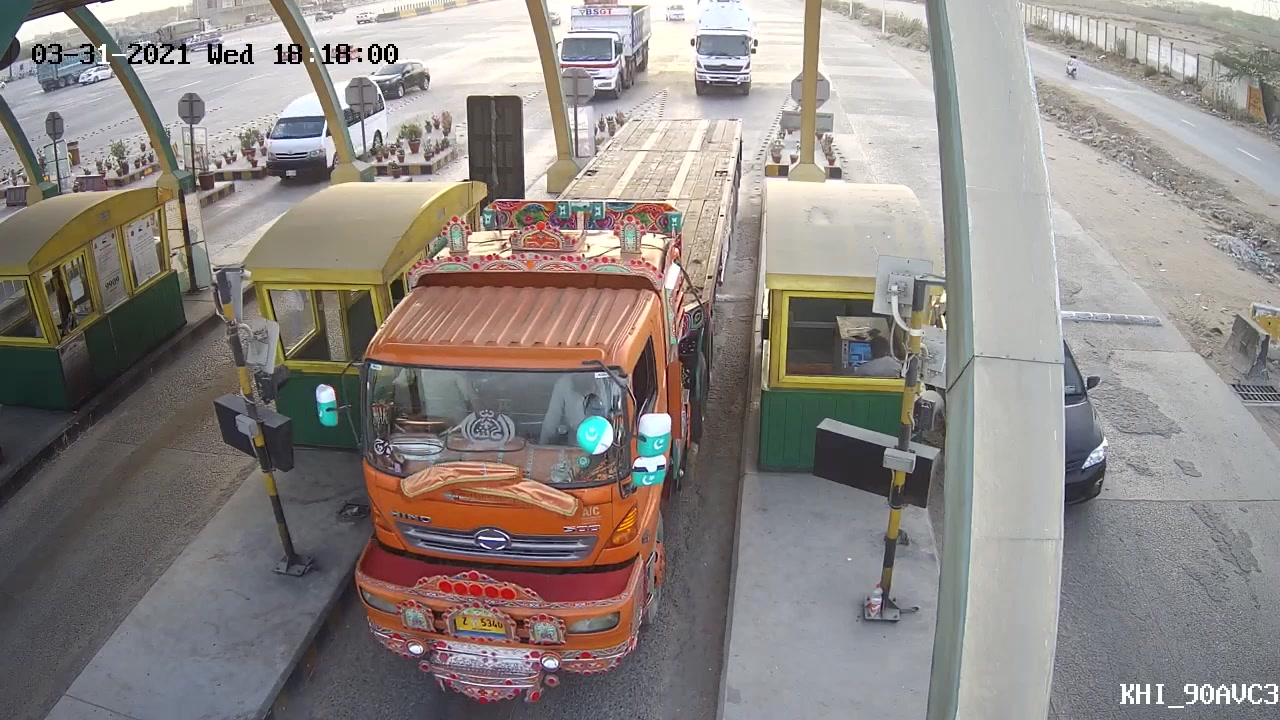F6: (311, 107, 747, 712)
